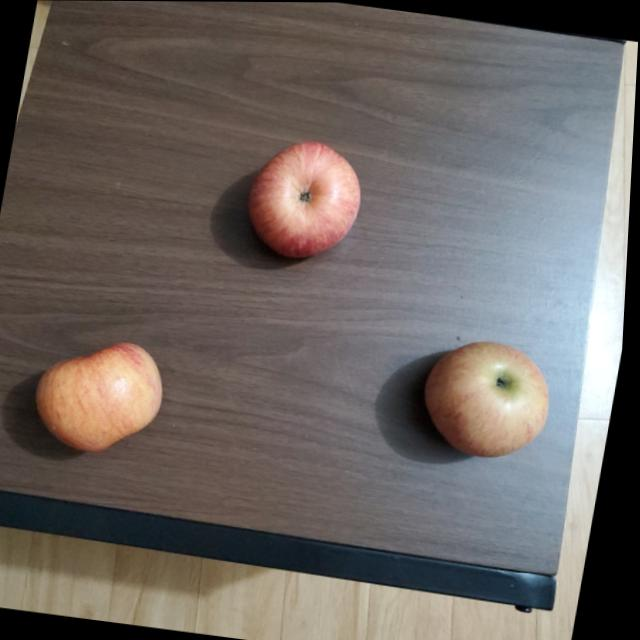apple: (30, 330, 178, 462), (419, 333, 562, 461), (243, 136, 371, 265)
